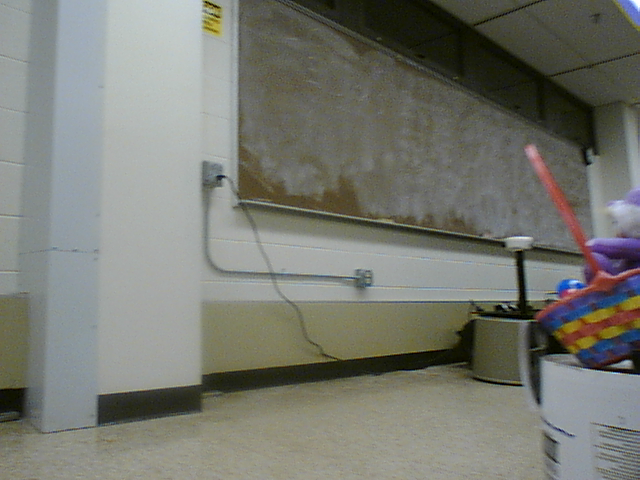bunny: (518, 139, 640, 371)
